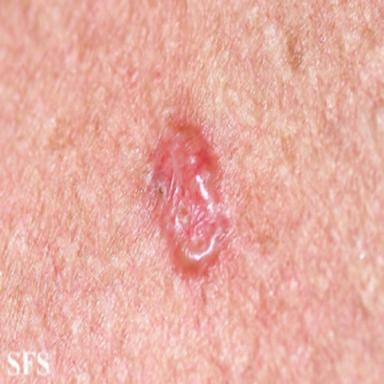basal-cell-carcinoma: (150, 117, 232, 278)
